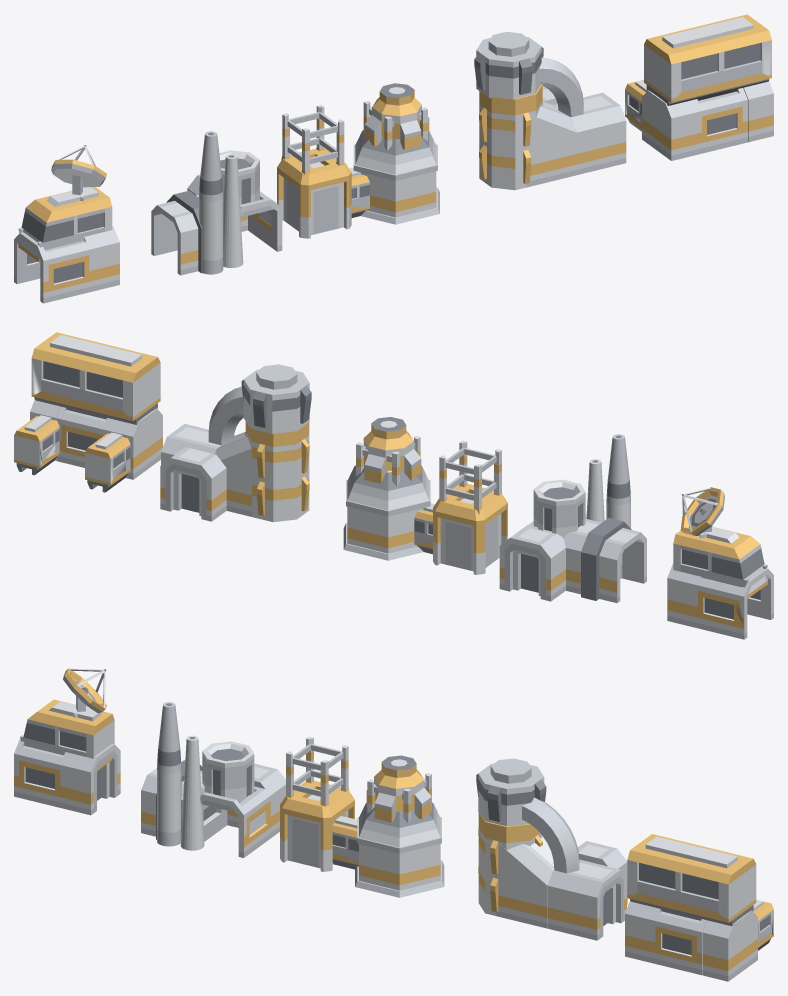
The model's file is buildings_2.fbx.
3 renders of one model, top to bottom at view 1: azimuth 30°, elevation 25°; view 2: azimuth 150°, elevation 25°; view 3: azimuth 330°, elevation 25°, orthographic.
Parts seen in each view (by area): view 1: build_3_G2, build_2_G2, build_1_G2, build_factory_G2, build_locator_G2; view 2: build_2_G2, build_3_G2, build_1_G2, build_factory_G2, build_locator_G2; view 3: build_2_G2, build_3_G2, build_1_G2, build_factory_G2, build_locator_G2.
Boxes of the visible parts, <box> form: build_3_G2: <box>277,83,439,238</box>; build_2_G2: <box>474,31,626,190</box>; build_1_G2: <box>625,14,773,160</box>; build_factory_G2: <box>151,131,282,275</box>; build_locator_G2: <box>14,145,119,303</box>; build_2_G2: <box>160,364,311,522</box>; build_3_G2: <box>343,417,507,574</box>; build_1_G2: <box>14,332,162,492</box>; build_factory_G2: <box>499,434,646,602</box>; build_locator_G2: <box>667,487,773,639</box>; build_2_G2: <box>476,758,627,940</box>; build_3_G2: <box>280,736,444,897</box>; build_1_G2: <box>625,834,773,981</box>; build_factory_G2: <box>141,702,285,857</box>; build_locator_G2: <box>14,668,120,815</box>.
Bounding box in the file's own units: 9.89 × 1.79 × 1.31.
